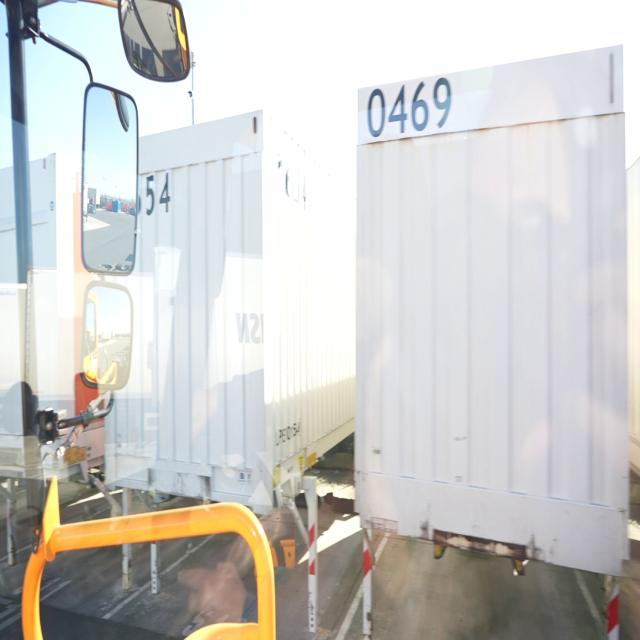Code: (366, 71, 454, 145)
